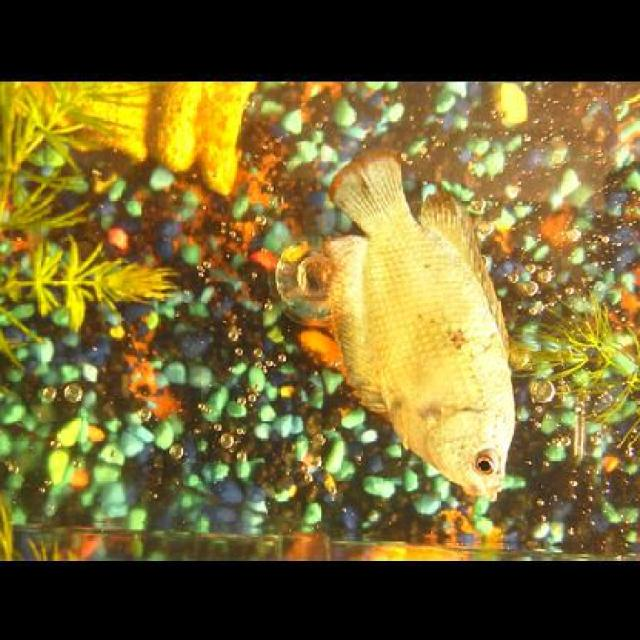Gourami: (323, 150, 511, 493)
